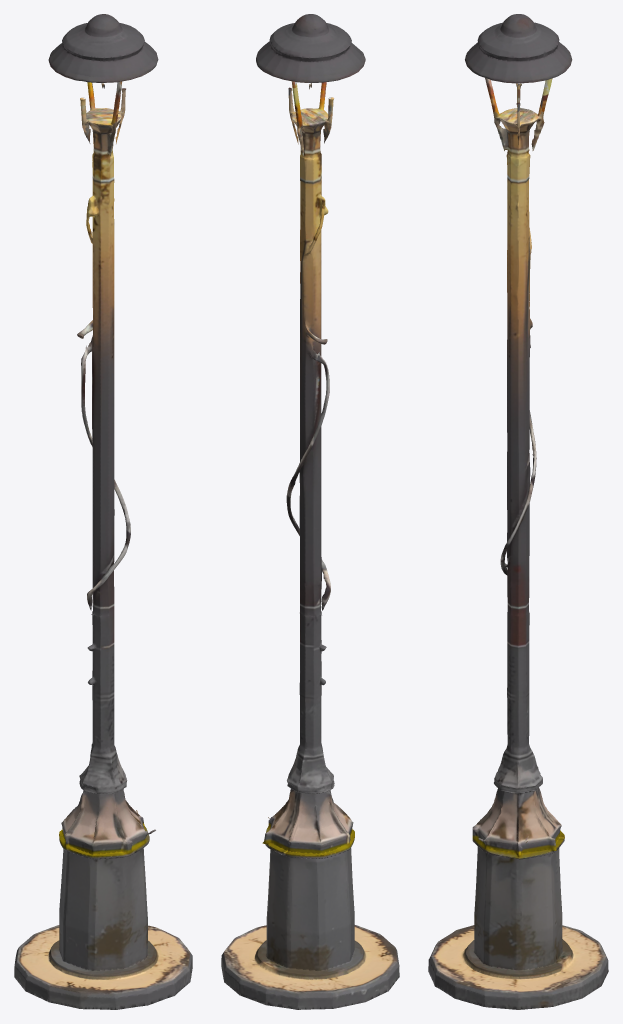
The model's file is PostePrefabFBX.fbx.
3 views of the same model, side by side, from view 1: azimuth 30°, elevation 25°; view 2: azimuth 150°, elevation 25°; view 3: azimuth 270°, elevation 25° (orthographic).
Parts seen in each view (by area): view 1: tripo_node_bef19ca0; view 2: tripo_node_bef19ca0; view 3: tripo_node_bef19ca0.
Boxes of the visible parts, x1,y1,x2,y2 form: tripo_node_bef19ca0: (14,14,192,1009); tripo_node_bef19ca0: (221,14,399,1009); tripo_node_bef19ca0: (428,14,608,1009).
Size of the model in its own units: 0.1709 by 1 by 0.1708.
1 material, 1 textured.
